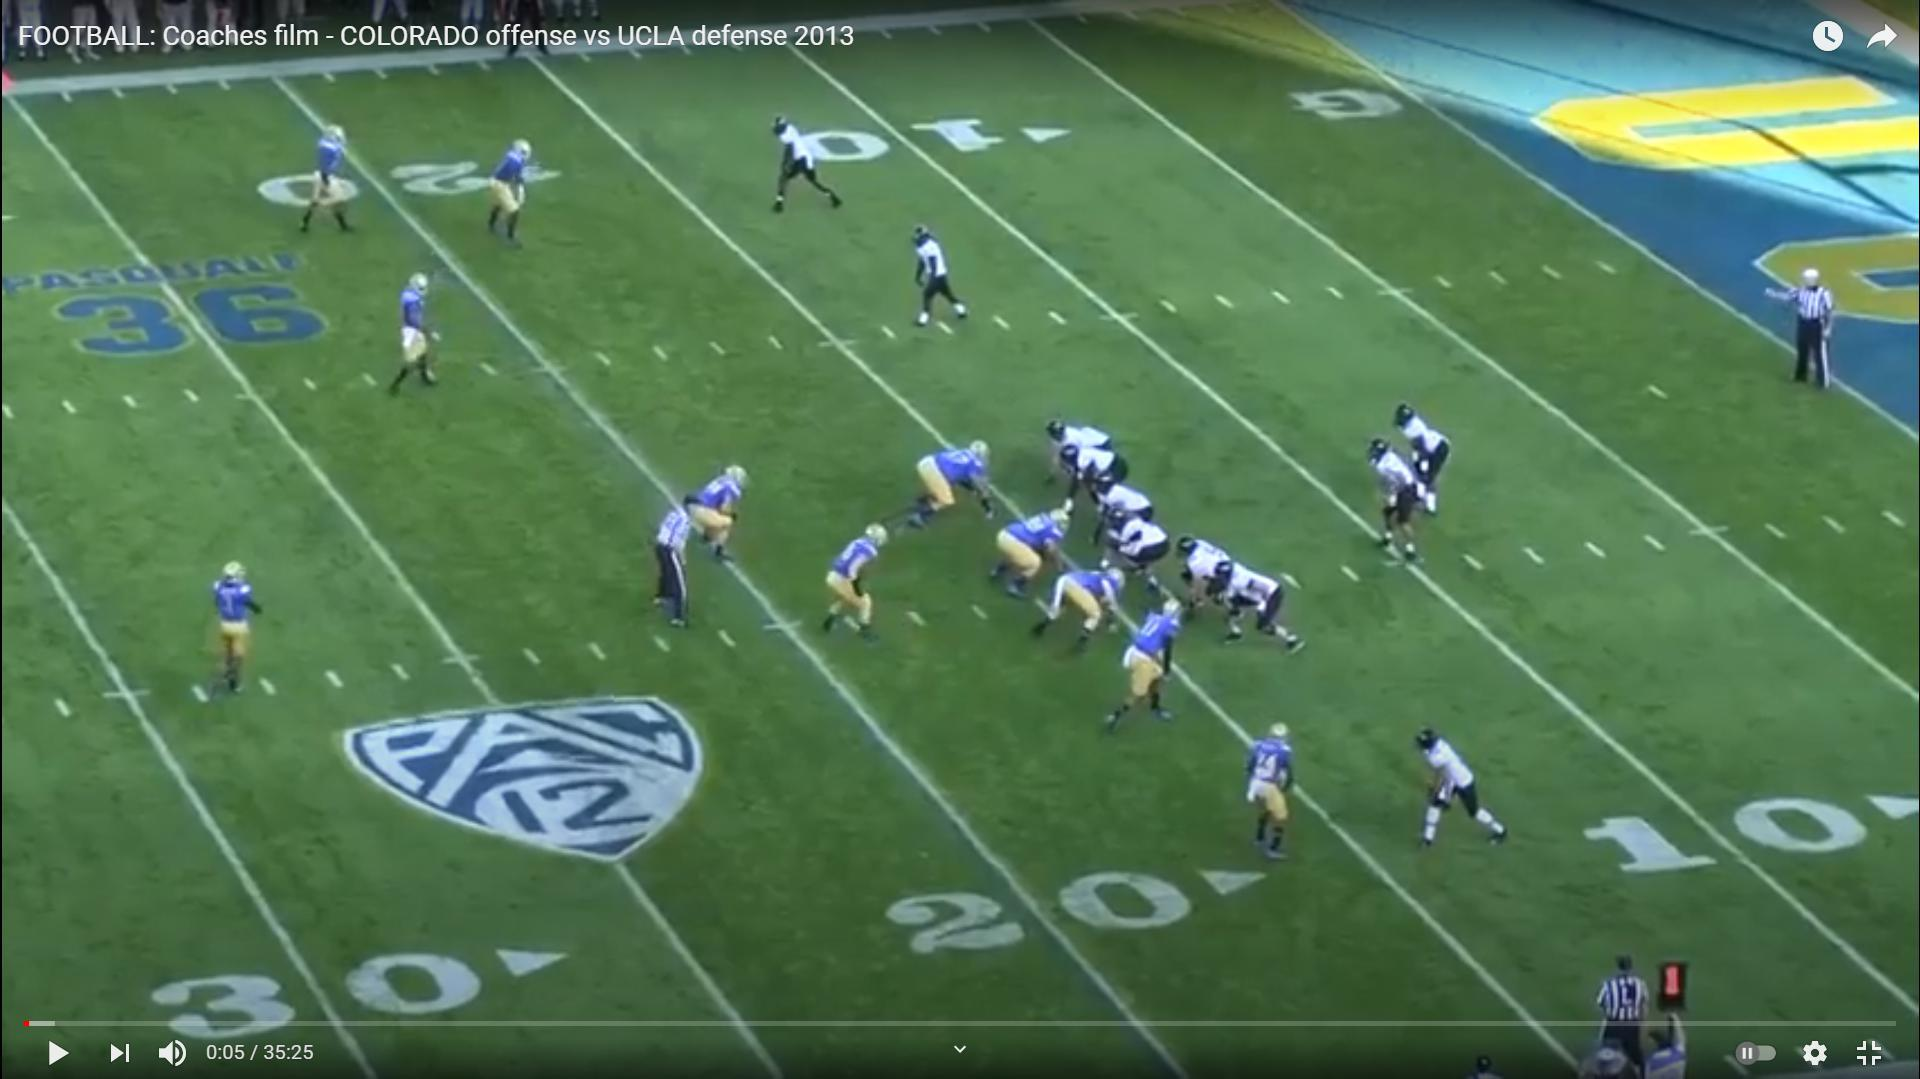defense: (1093, 601, 1180, 740), (1241, 719, 1303, 870), (206, 559, 267, 708), (1033, 560, 1134, 646), (905, 441, 998, 534), (298, 116, 366, 240), (826, 527, 891, 649), (478, 133, 544, 252), (389, 271, 448, 404), (994, 503, 1074, 600), (696, 461, 751, 568)
oline: (1217, 557, 1308, 656), (1170, 528, 1242, 616), (1103, 511, 1176, 597), (1091, 477, 1160, 567), (1056, 442, 1130, 515)
qb: (1367, 437, 1430, 565)
ref: (1591, 952, 1656, 1077), (646, 493, 701, 634), (1784, 264, 1839, 403)
skill: (1412, 722, 1517, 853), (762, 114, 848, 222), (902, 221, 979, 338), (1394, 403, 1453, 524), (1043, 418, 1111, 482)
